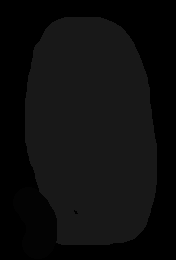fp: (7, 6, 167, 247)
